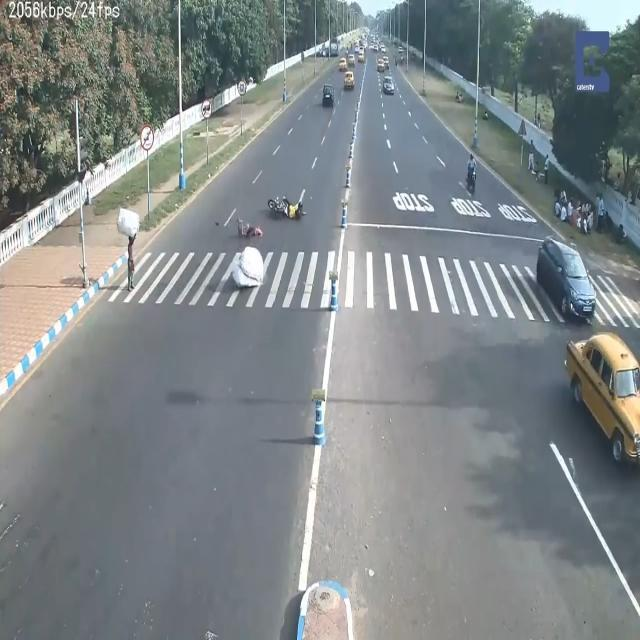accident: (265, 177, 319, 220), (284, 188, 313, 220)
